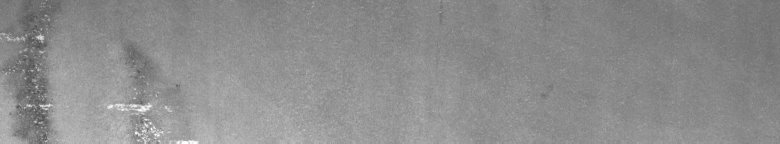hc: (4, 4, 180, 136)
